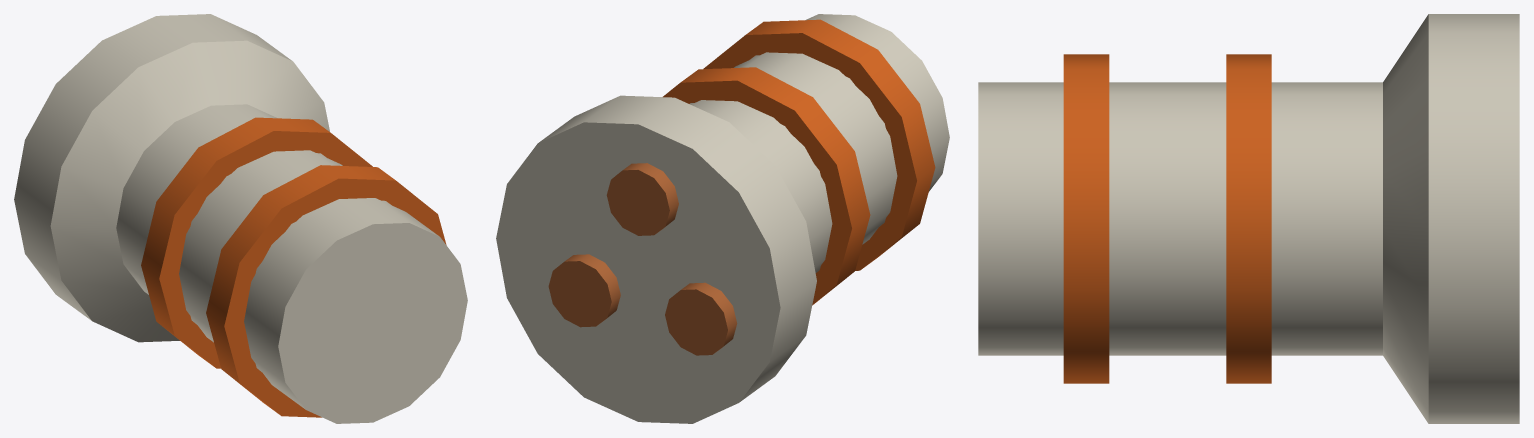
File: u73l_busbar.obj
3 views of the same model, side by side, from view 1: azimuth 30°, elevation 25°; view 2: azimuth 150°, elevation 25°; view 3: azimuth 270°, elevation 25° (orthographic). The views are drawn at different scales.
Visible parts, largest first — view 1: u73l_busbar; view 2: u73l_busbar; view 3: u73l_busbar.
Boxes of the visible parts, box(x1,y1,x2,y2) form: u73l_busbar: box(14, 14, 467, 423); u73l_busbar: box(496, 14, 949, 423); u73l_busbar: box(978, 14, 1519, 423).
Bounding box in the file's own units: 0.72 × 0.72 × 0.95.
